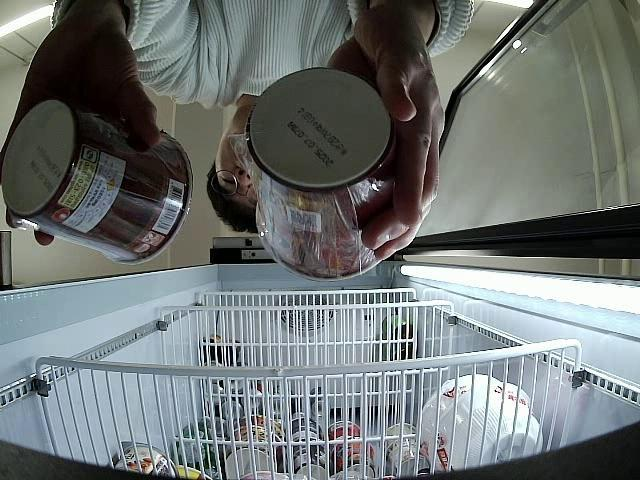06_nuguri_S: (238, 68, 395, 280), (0, 98, 193, 266)
